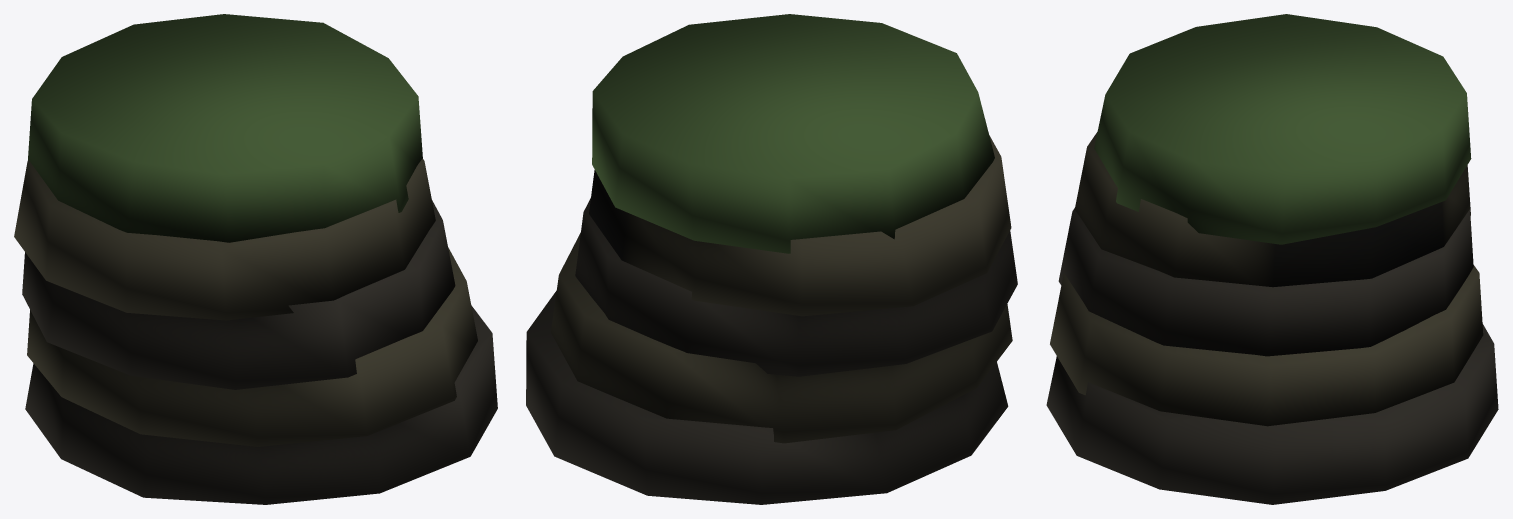
Rendered from wall_region1_v2.glb.
3 views of the same model, side by side, from view 1: azimuth 30°, elevation 25°; view 2: azimuth 150°, elevation 25°; view 3: azimuth 270°, elevation 25° (orthographic). The views are drawn at different scales.
Visible parts, largest first — view 1: wall_region1_v2; view 2: wall_region1_v2; view 3: wall_region1_v2.
Boxes of the visible parts, left/top/right/bottom form: wall_region1_v2: left=14, top=14, right=497, bottom=504; wall_region1_v2: left=526, top=14, right=1017, bottom=504; wall_region1_v2: left=1046, top=14, right=1498, bottom=504.
Bounding box in the file's own units: 1.5 × 1.08 × 1.44.
